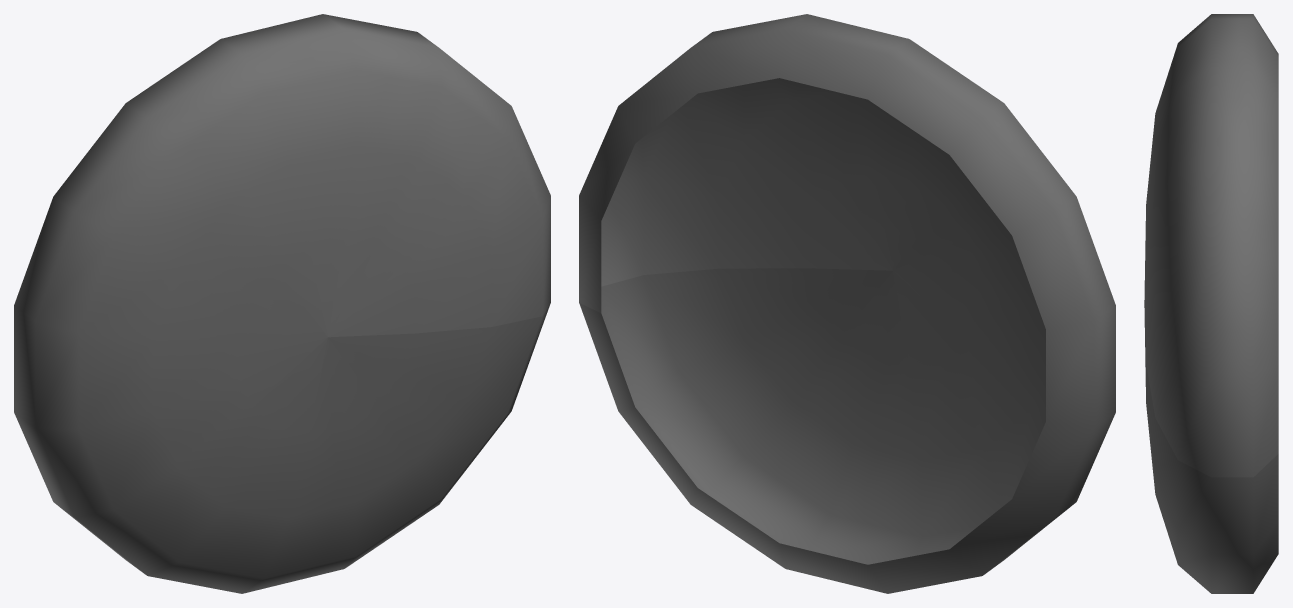
Rendered from pedestalpole_cap_s.obj.
3 views of the same model, side by side, from view 1: azimuth 30°, elevation 25°; view 2: azimuth 150°, elevation 25°; view 3: azimuth 270°, elevation 25° (orthographic). The views are drawn at different scales.
Visible parts, largest first — view 1: pedestalpole_cap_s; view 2: pedestalpole_cap_s; view 3: pedestalpole_cap_s.
Boxes of the visible parts, x1=… form: pedestalpole_cap_s: x1=14, y1=14, x2=550, y2=593; pedestalpole_cap_s: x1=579, y1=14, x2=1115, y2=593; pedestalpole_cap_s: x1=1144, y1=14, x2=1278, y2=593.
Bounding box in the file's own units: 0.4291 × 0.4291 × 0.1.
